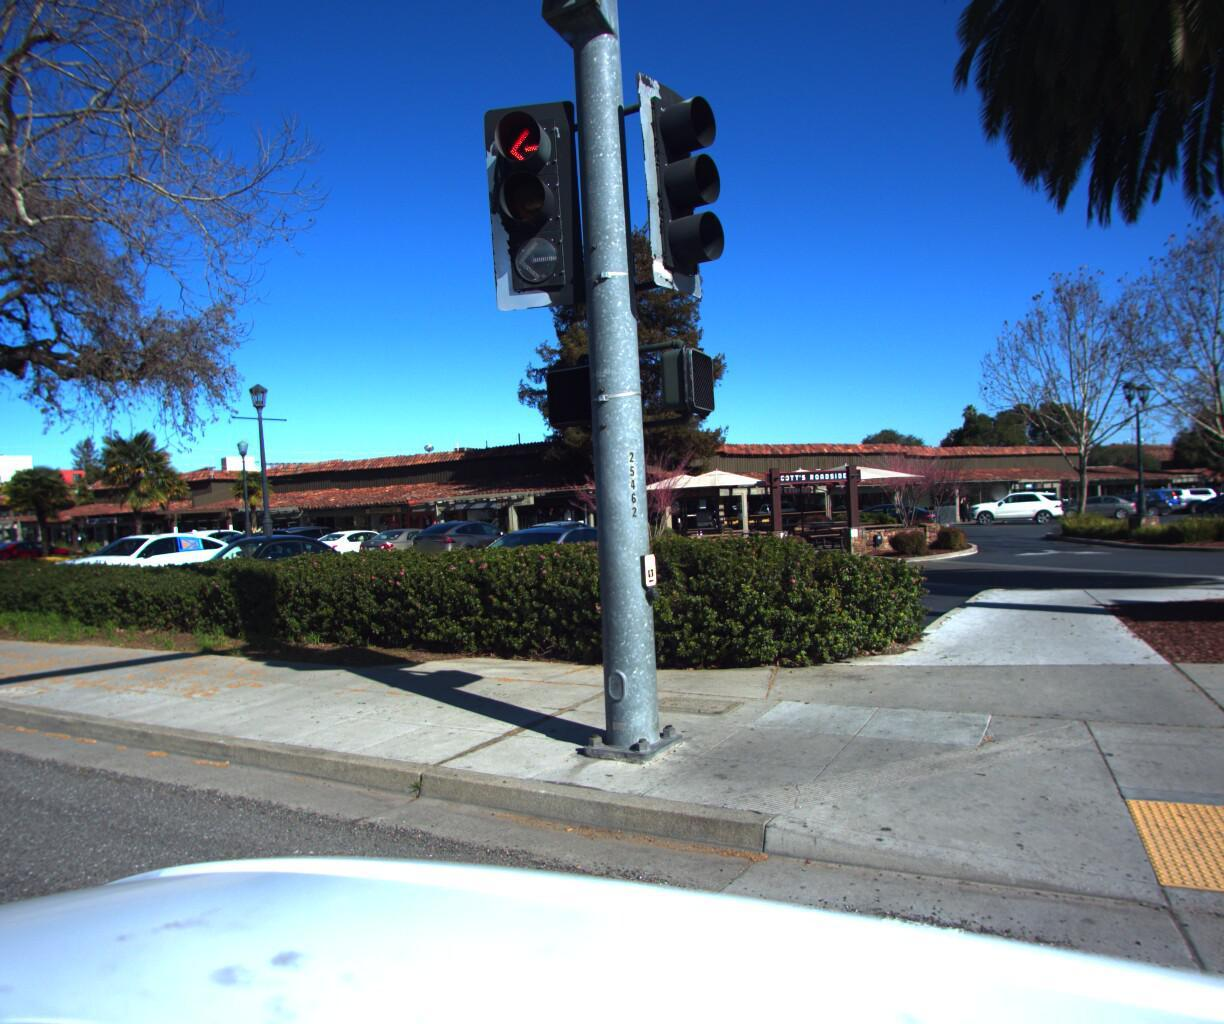car: (424, 514, 663, 630), (30, 521, 263, 613), (145, 522, 358, 604)
